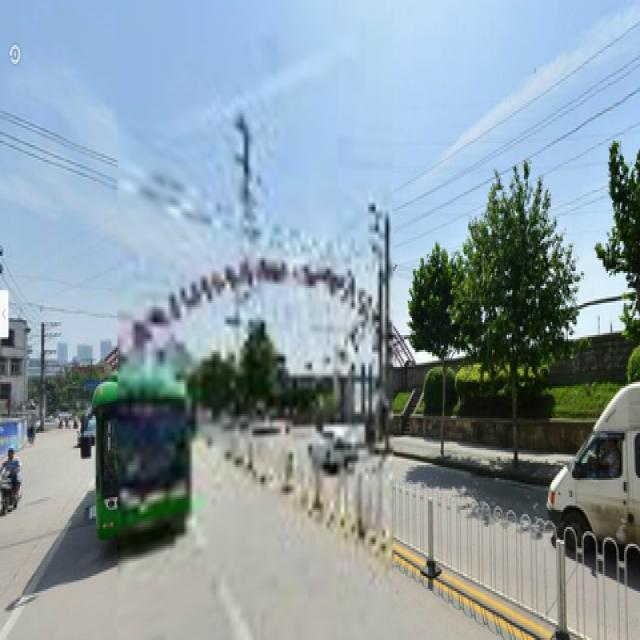meta: (484, 158, 567, 444), (408, 260, 464, 433)
